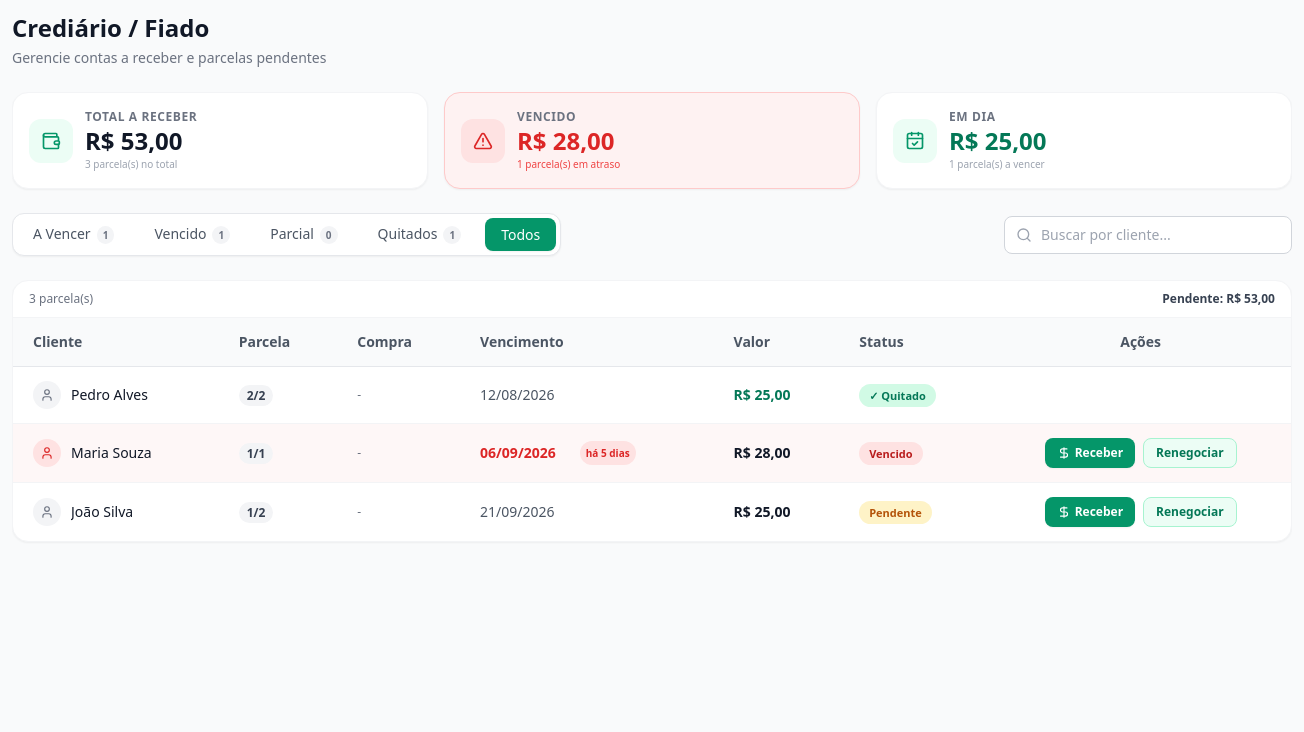
Test: FiadoPage › filters by vencido status
Click the button "Vencido1" at (192, 234), box [138,218,246,251]
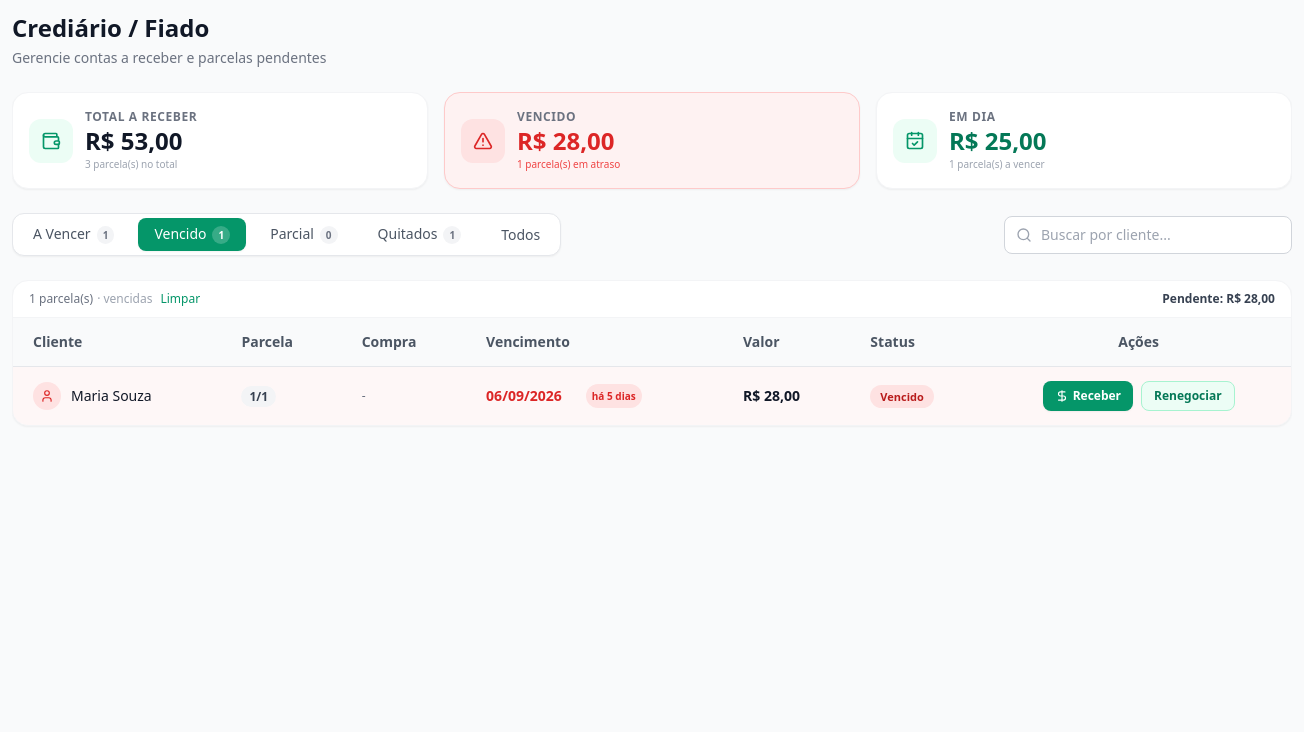
Expected: the text "João Silva" is not shown
